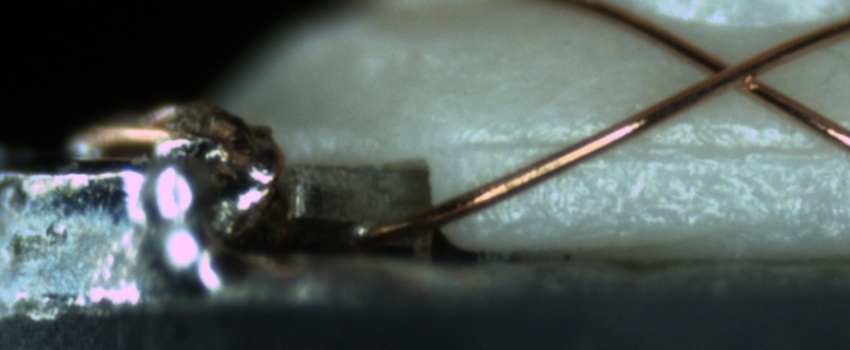CL: (686, 41, 785, 101)
DL: (448, 119, 849, 176)
TE: (64, 90, 291, 165)
